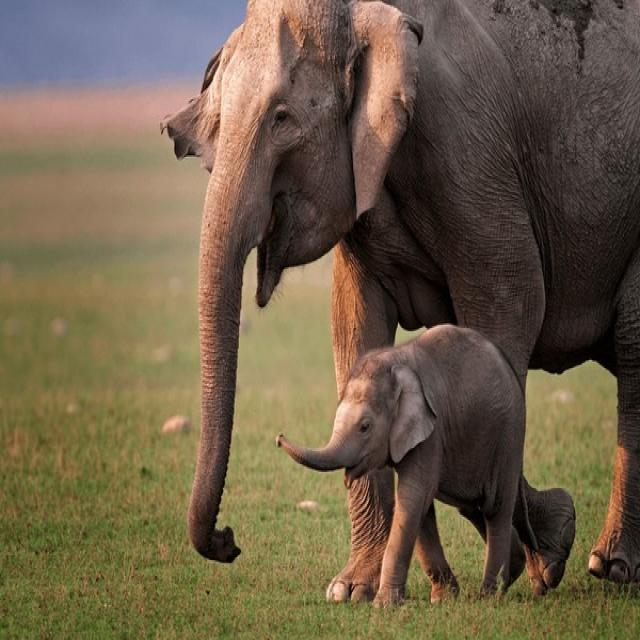Elephant: (154, 0, 640, 640), (291, 314, 535, 617)
